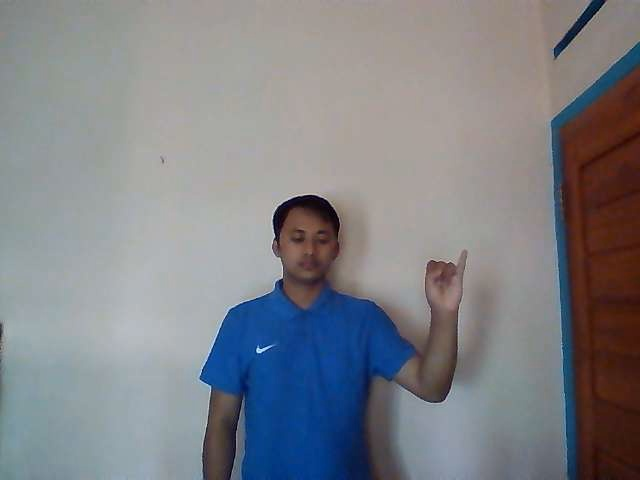I: (424, 248, 467, 311)
